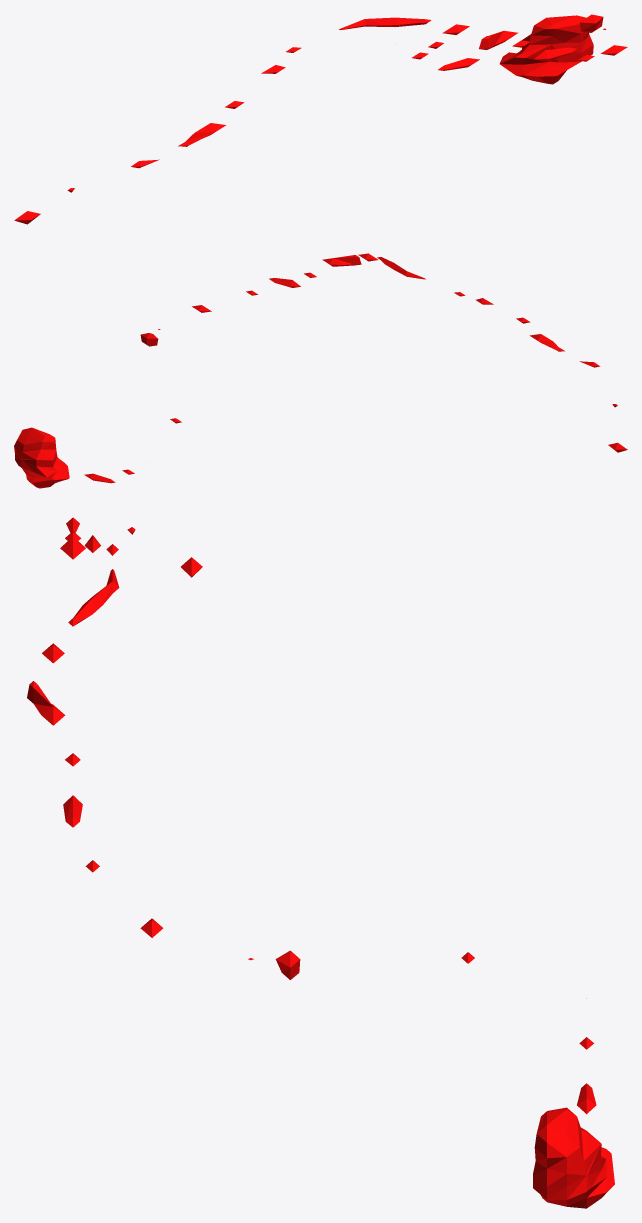
File: ydiJ_coarse.dae
3 renders of one model, top to bottom at view 1: azimuth 30°, elevation 25°; view 2: azimuth 150°, elevation 25°; view 3: azimuth 270°, elevation 25°, orthographic. The views are drawn at different scales.
Visible parts, largest first — view 1: ydiJ; view 2: ydiJ; view 3: ydiJ.
Boxes of the visible parts, x1,y1,x2,y2 form: ydiJ: (14, 14, 627, 224); ydiJ: (14, 253, 627, 488); ydiJ: (27, 517, 614, 1208).
Size of the model in its own units: 789 by 278 by 386.
